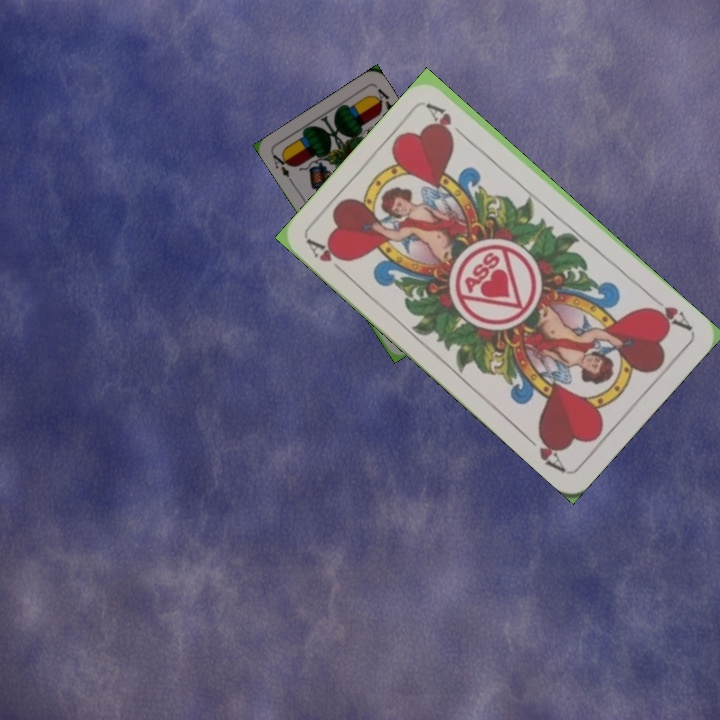EA: (268, 149, 296, 186)
HA: (303, 235, 353, 279), (643, 292, 695, 334)
